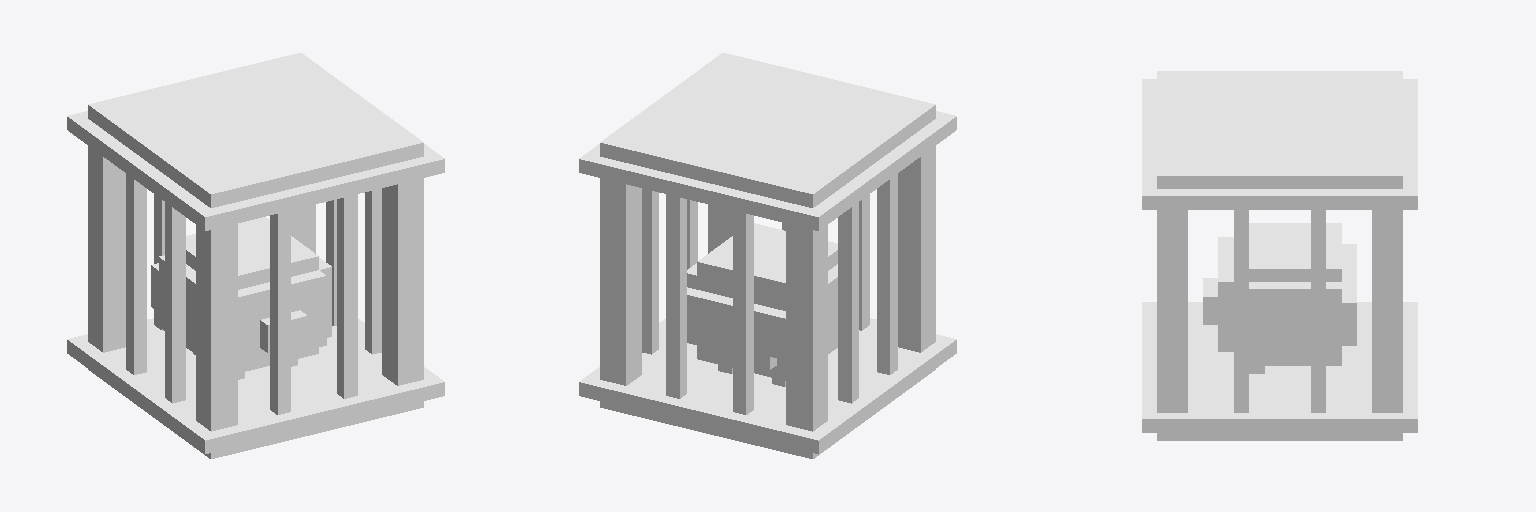
The model's file is sheepCage.obj.
The picture shows the model from 3 angles: view 1: azimuth 30°, elevation 25°; view 2: azimuth 150°, elevation 25°; view 3: azimuth 270°, elevation 25°; orthographic projection.
Visible parts, largest first — view 1: object 1; view 2: object 1; view 3: object 1.
Boxes of the visible parts, <box> form: object 1: <box>67,53,444,458</box>; object 1: <box>579,53,956,458</box>; object 1: <box>1142,71,1417,440</box>.
Bounding box in the file's own units: 1.8 × 1.9 × 1.8.